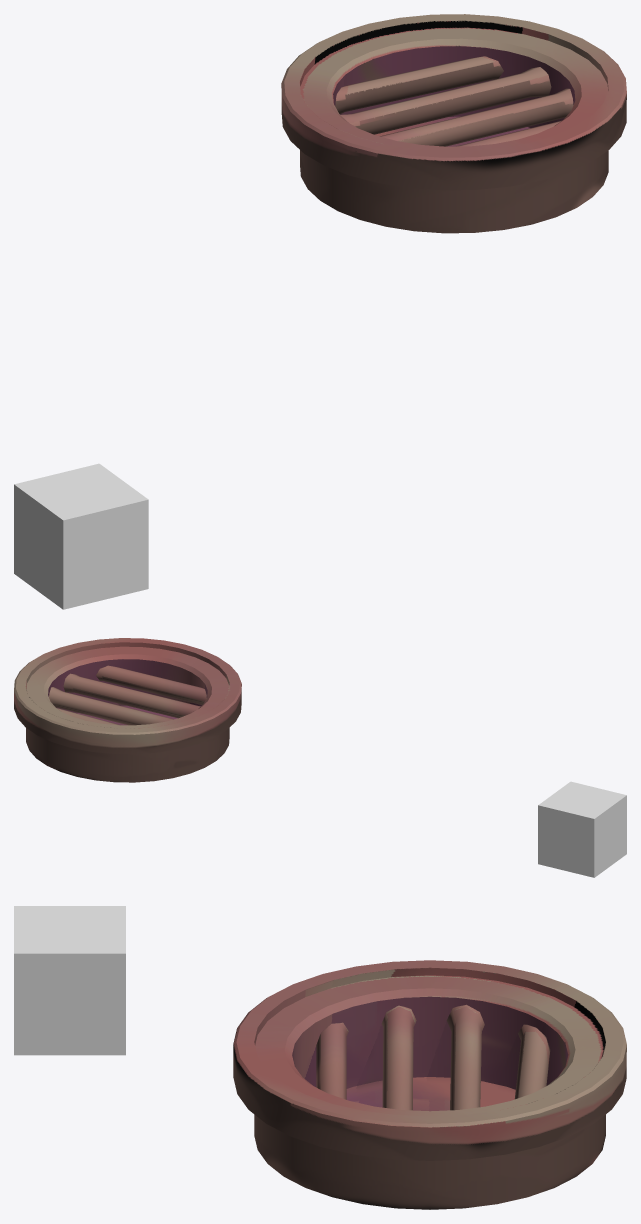
The model's file is trade-floor005.fbx.
3 renders of one model, top to bottom at view 1: azimuth 30°, elevation 25°; view 2: azimuth 150°, elevation 25°; view 3: azimuth 270°, elevation 25°, orthographic. The views are drawn at different scales.
Parts seen in each view (by area): view 1: Cylinder.006, trade-floor005; view 2: Cylinder.006, trade-floor005; view 3: Cylinder.006, trade-floor005.
Part boxes in pixels (x1,y1,x2,y2): Cylinder.006: (281,14,626,233); trade-floor005: (14,463,148,609); Cylinder.006: (14,638,241,782); trade-floor005: (538,781,626,877); Cylinder.006: (233,960,626,1209); trade-floor005: (14,906,125,1055).
Size of the model in its own units: 661 by 218 by 426.
